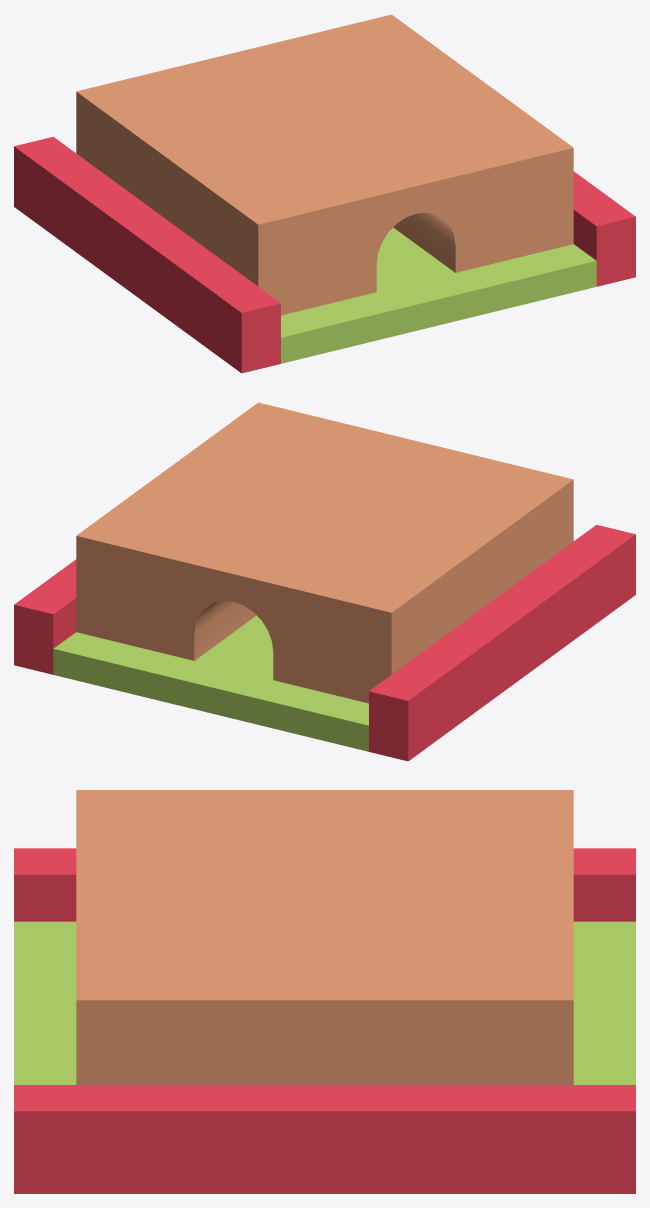
File: tunnelNarrow.fbx
3 renders of one model, top to bottom at view 1: azimuth 30°, elevation 25°; view 2: azimuth 150°, elevation 25°; view 3: azimuth 270°, elevation 25°, orthographic. The views are drawn at different scales.
Visible parts, largest first — view 1: tunnelNarrow; view 2: tunnelNarrow; view 3: tunnelNarrow.
Part boxes in pixels (<box>): tunnelNarrow: <box>14,14,635,373</box>; tunnelNarrow: <box>14,402,635,761</box>; tunnelNarrow: <box>14,790,635,1193</box>.
Bounding box in the file's own units: 10 × 2.97 × 10.
